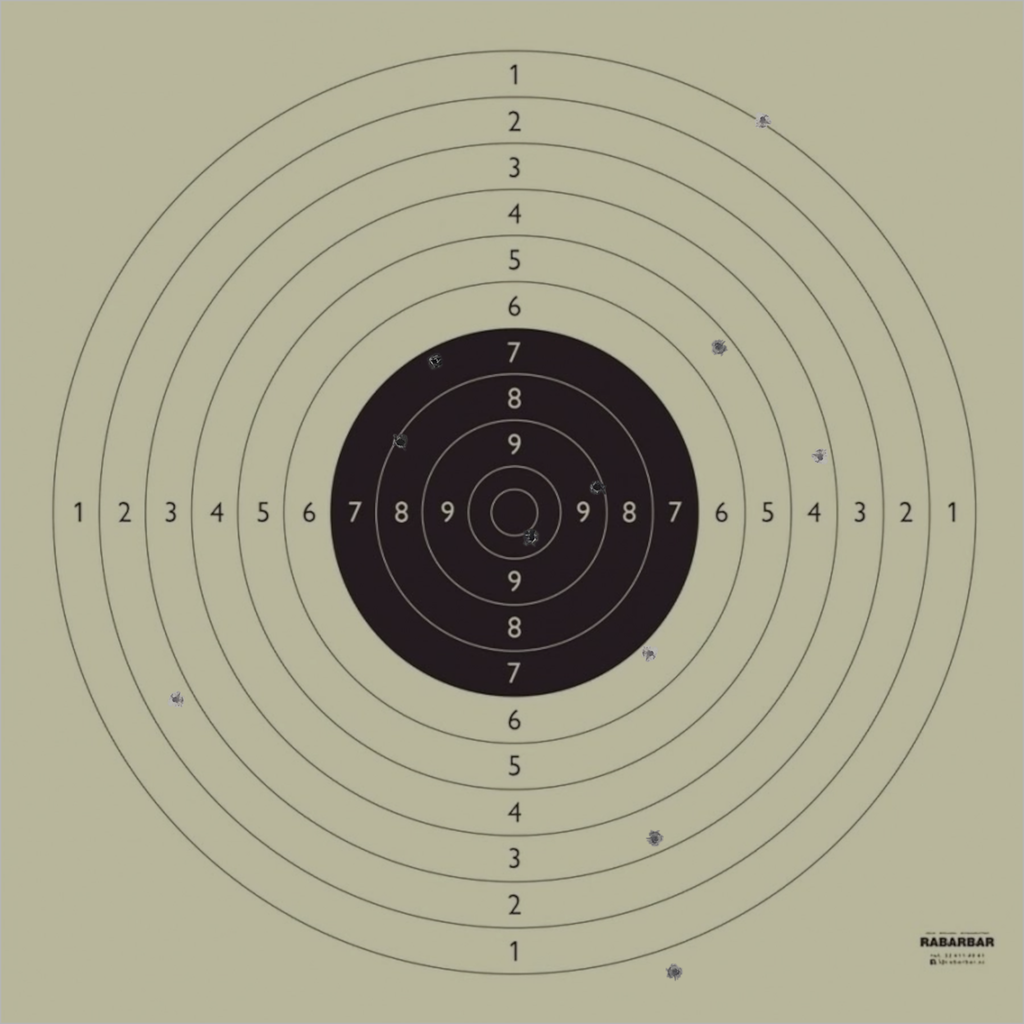0 punktow: (666, 963, 684, 981)
1 punkt: (754, 111, 772, 129)
10 punktow: (522, 529, 541, 547)
2 punkty: (167, 690, 185, 709)
3 punkty: (645, 830, 664, 848)
4 punkty: (811, 448, 829, 466)
5 punktow: (709, 338, 728, 356)
6 punktow: (641, 644, 659, 663)
7 punktow: (425, 352, 443, 371)
8 punktow: (391, 433, 409, 451)
9 punktow: (588, 478, 607, 497)
